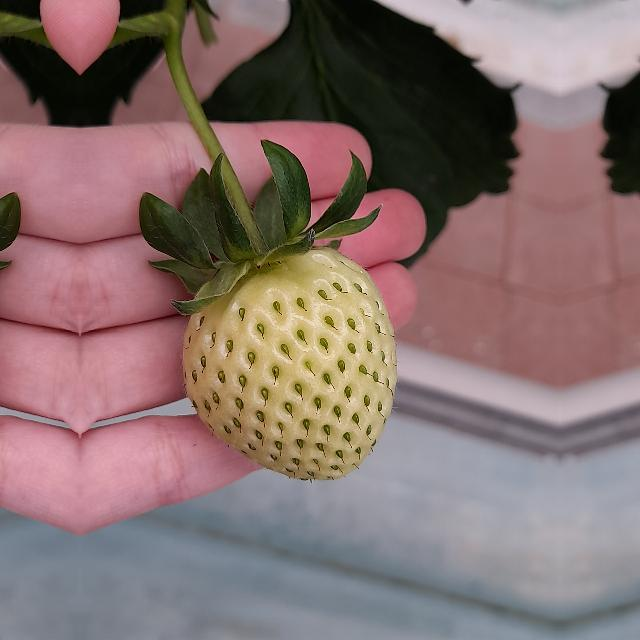Health_25: (182, 246, 396, 479)
